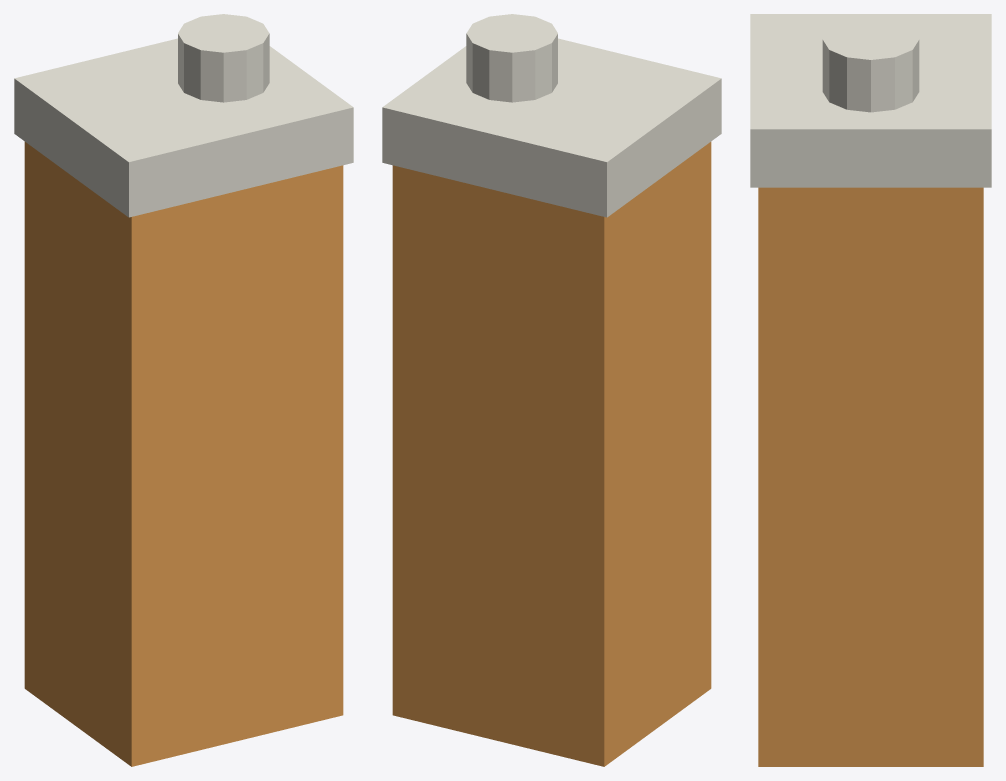
Rendered from supermarket-operations-juice-carton-cbb8fa73__26834.glb.
The picture shows the model from 3 angles, left to right: view 1: azimuth 30°, elevation 25°; view 2: azimuth 150°, elevation 25°; view 3: azimuth 270°, elevation 25°; orthographic projection. The views are drawn at different scales.
Visible parts, largest first — view 1: juice-carton; view 2: juice-carton; view 3: juice-carton.
Boxes of the visible parts, left/top/right/bottom form: juice-carton: left=14, top=14, right=353, bottom=766; juice-carton: left=382, top=14, right=721, bottom=766; juice-carton: left=750, top=14, right=991, bottom=766.
Bounding box in the file's own units: 0.085 × 0.238 × 0.075.
